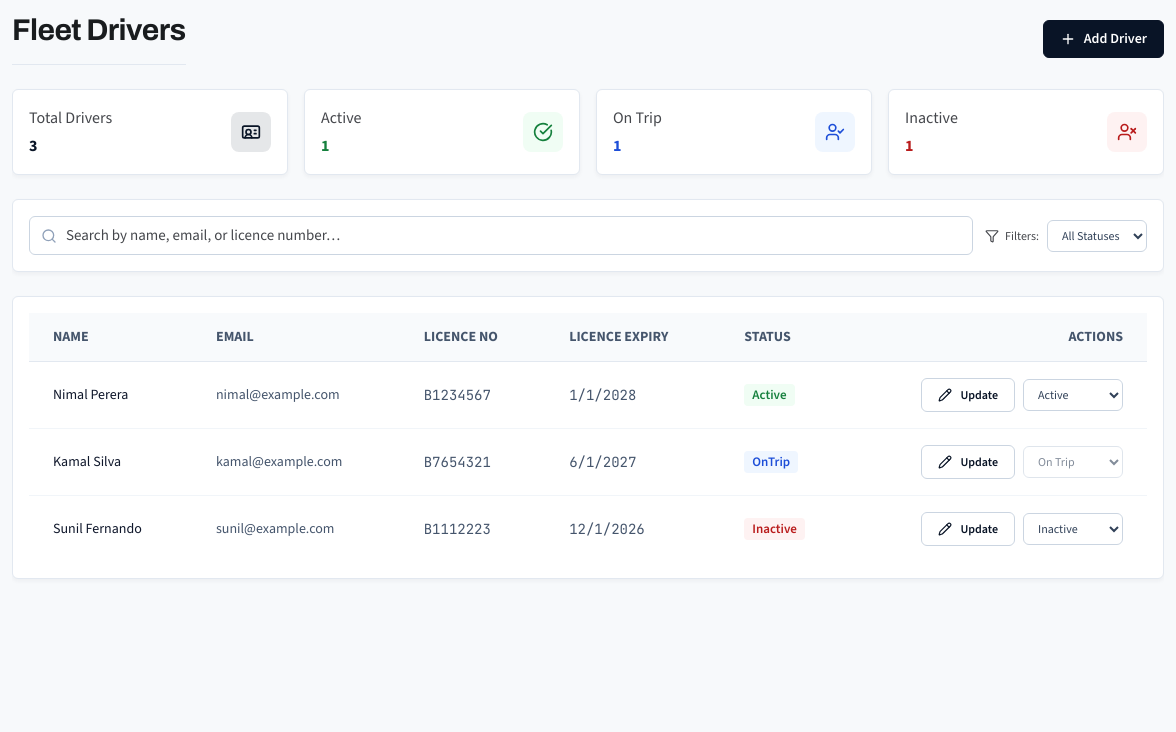
Test: FleetDriversPage › filters drivers by search text query
Step 1. Type "Kamal" into the field with placeholder "Search by name, email, or licence number…" → (501, 236), box x1=29 y1=216 x2=973 y2=255
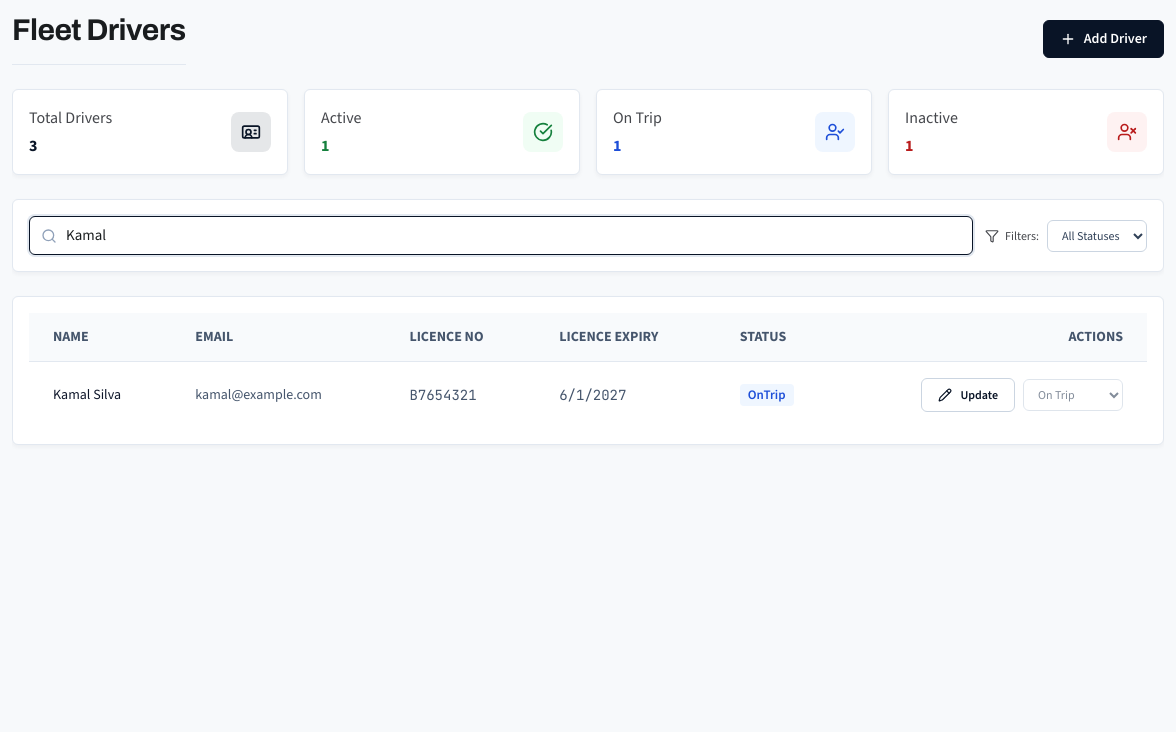
Expected: the text "Kamal Silva" is shown, x1=29 y1=362 x2=171 y2=428
Now the text "Nimal Perera" is gone
Now the text "Sunil Fernando" is gone
